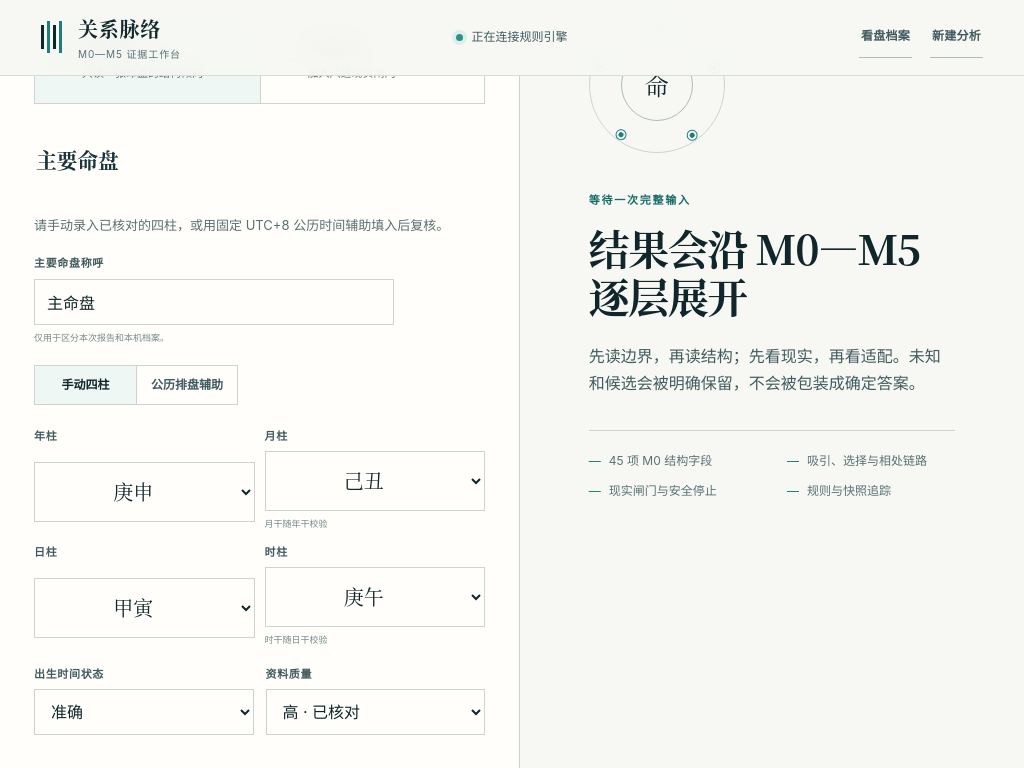
Scenario: App analysis provenance › blocks analysis while a solar assist record is unresolved
The image size is (1024, 768).
(page scrolled)
Click the button "公历排盘辅助": (186, 385) 136,366 -> 237,404
(page scrolled)
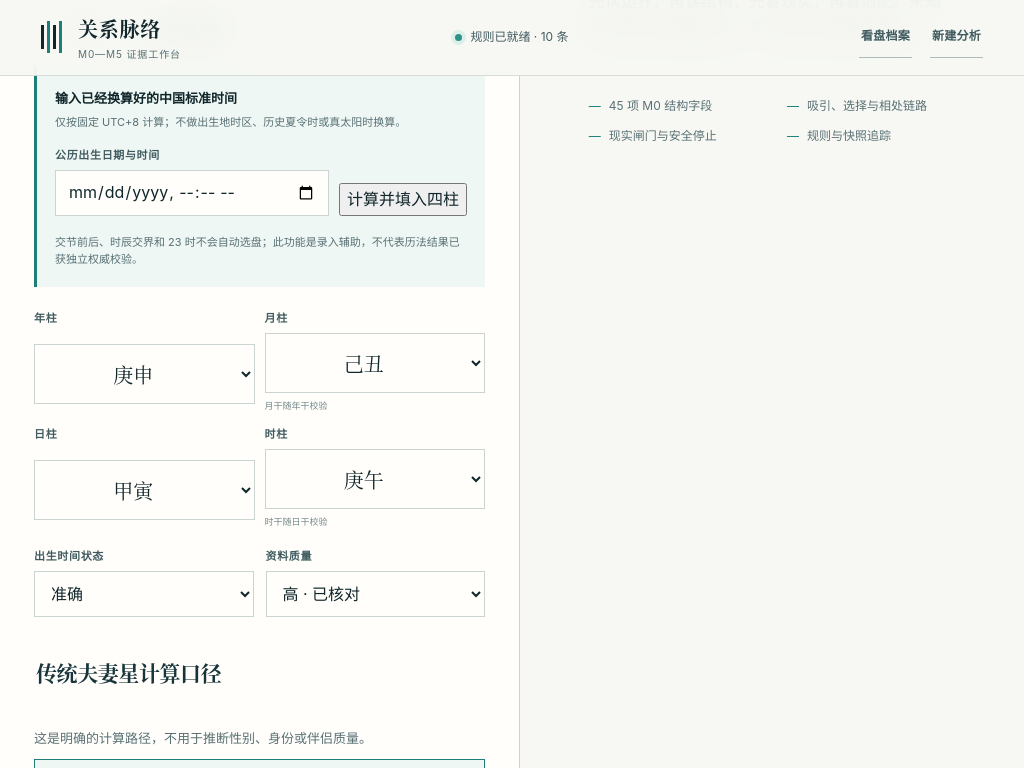
Submit the form
(page scrolled)
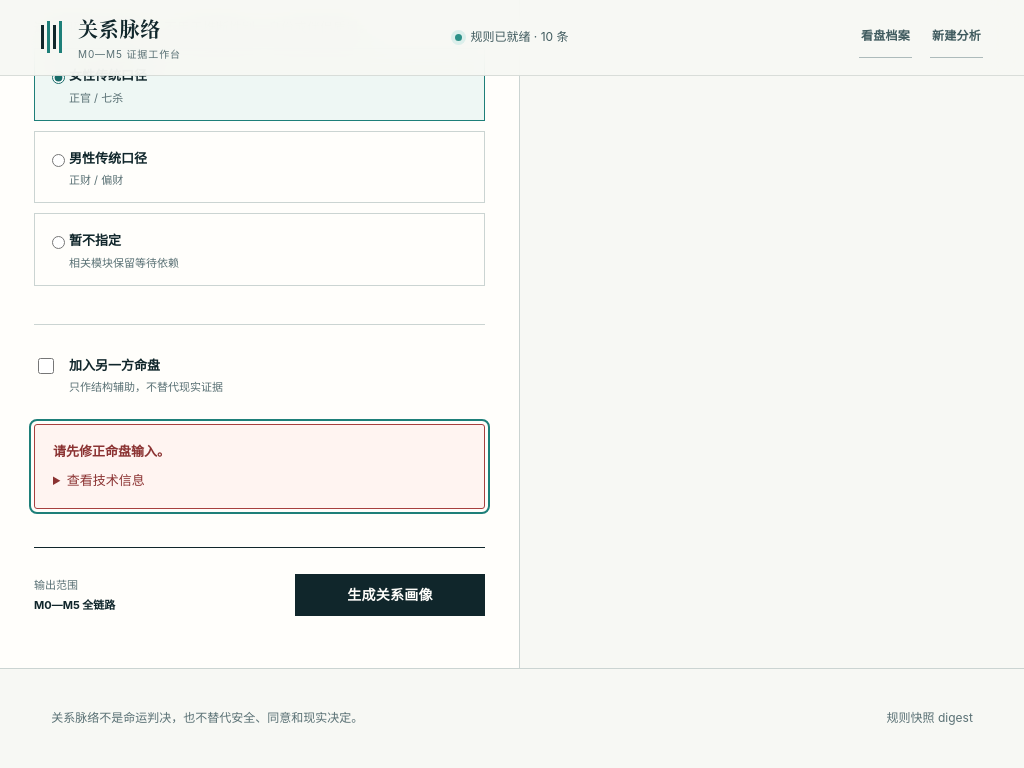
Result: the text "请先修正命盘输入" is shown at 53,443 -> 170,459
